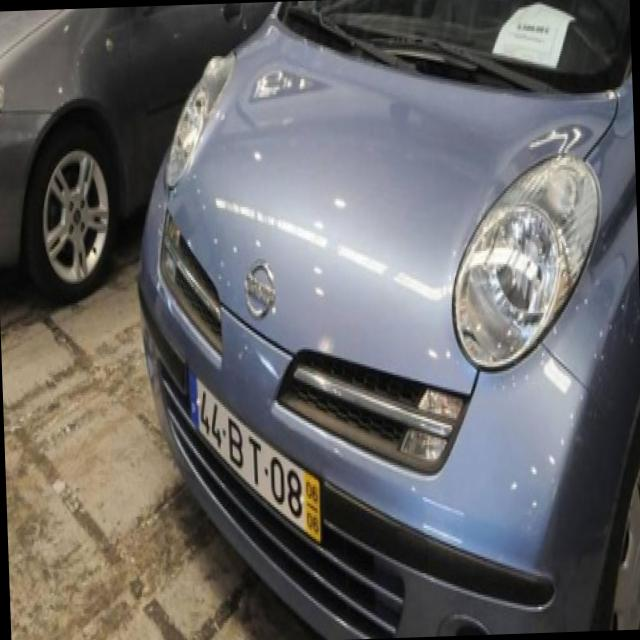portuguese-license-plates: (185, 358, 322, 551)
